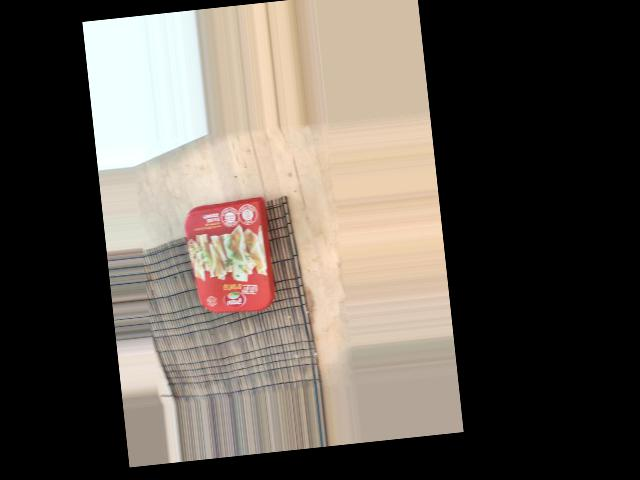cheese: (133, 259, 269, 362)
